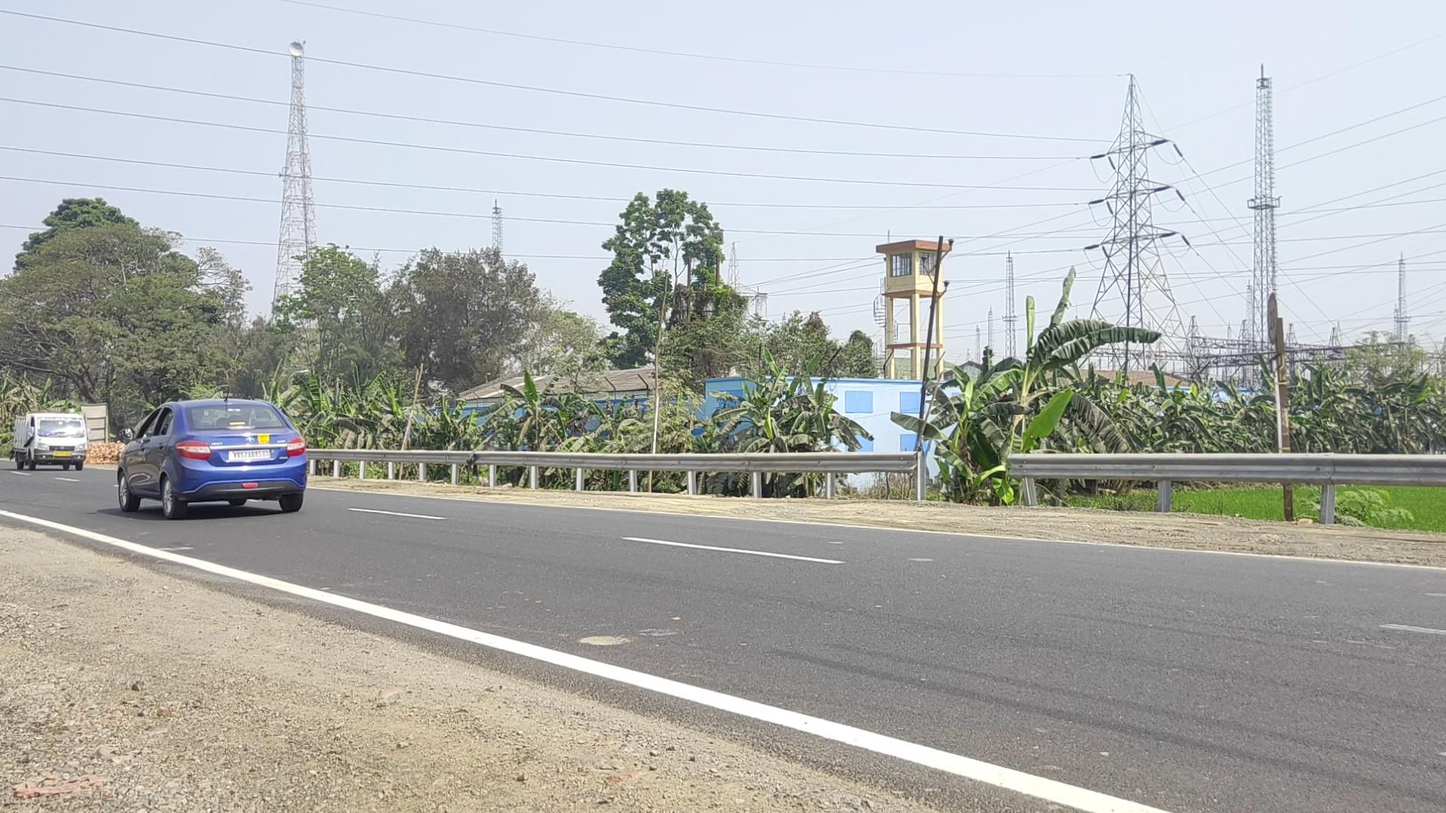car: (116, 397, 308, 521)
van: (13, 411, 89, 470)
